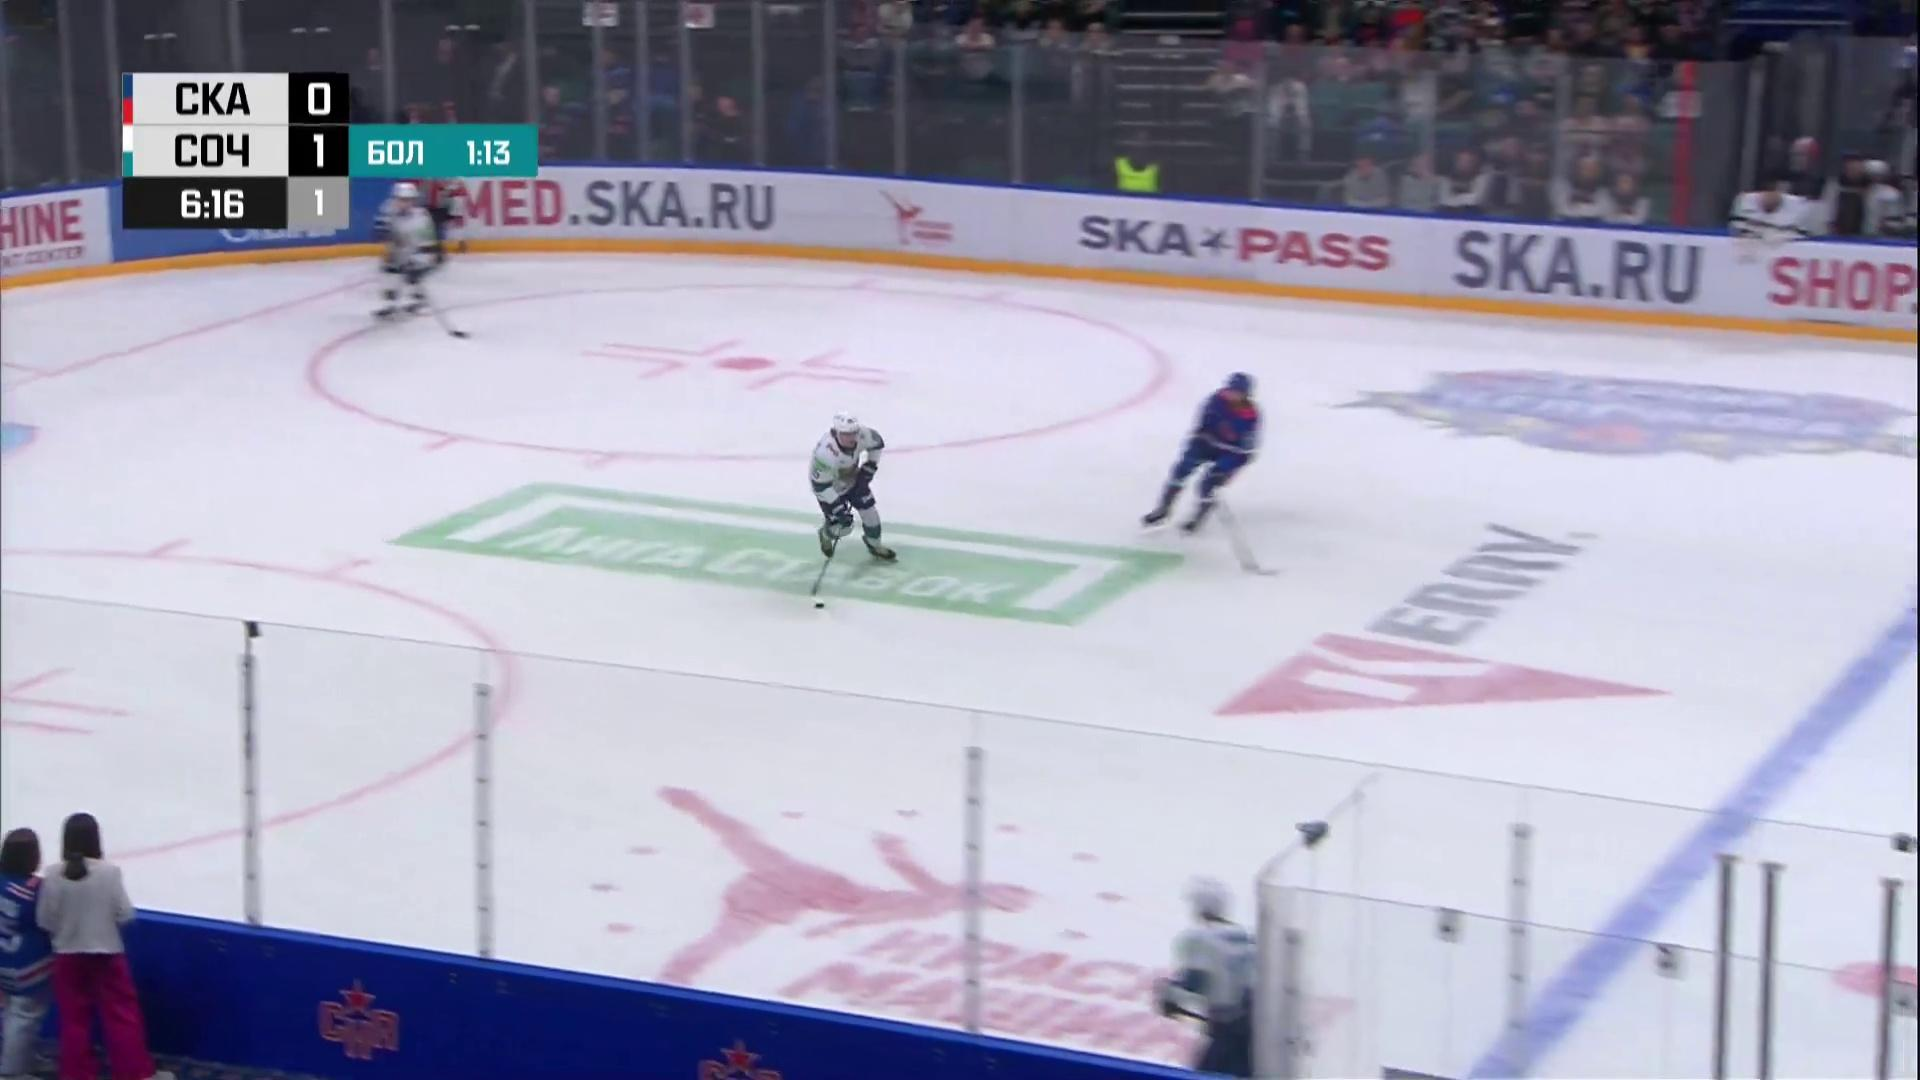ball: (814, 603, 824, 609)
